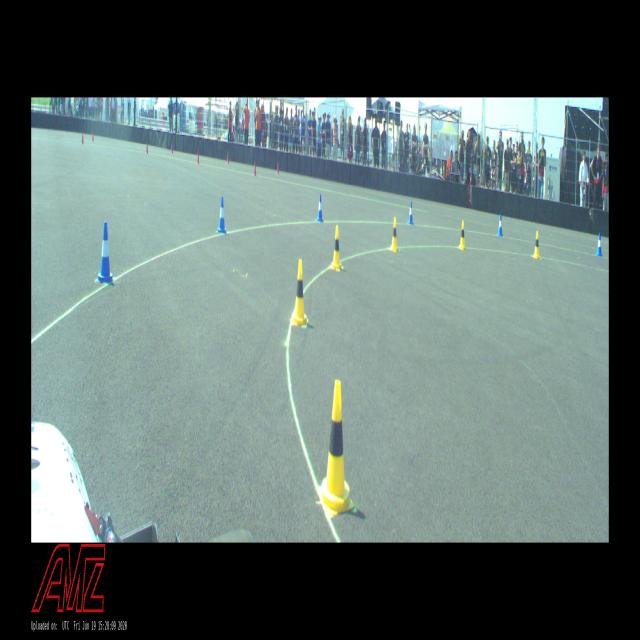blue_cone: (98, 222, 112, 281), (216, 196, 228, 234), (317, 194, 323, 222), (596, 233, 602, 257), (497, 214, 503, 236), (408, 201, 413, 225)
yellow_cone: (318, 380, 354, 515), (292, 260, 308, 326), (330, 226, 342, 270), (390, 218, 398, 252), (458, 221, 466, 249), (533, 231, 540, 258)
